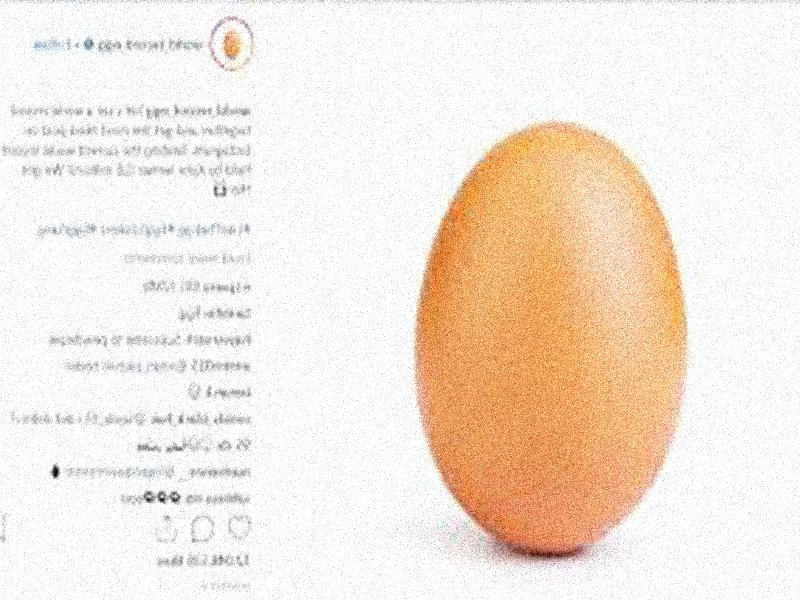Eggs: (416, 122, 689, 549)
